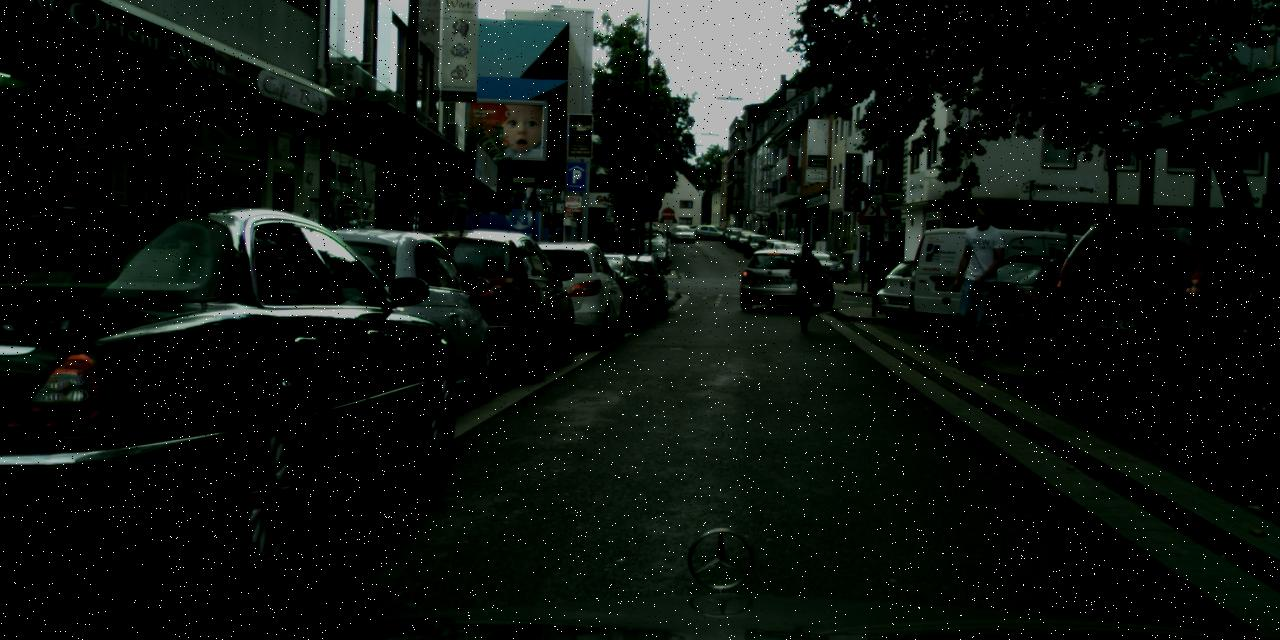ped: (945, 203, 1009, 358), (788, 244, 824, 330), (756, 223, 766, 246)
